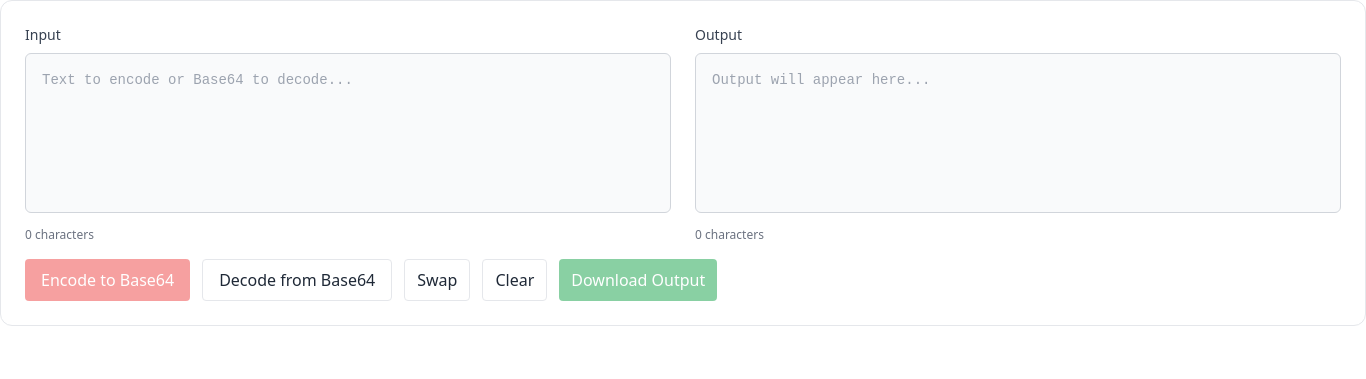
Test: Base64EncodeDecode › renders input and output areas and encodes text
This screenshot has width=1366, height=379.
Expected: the text box labelled "Output" is shown, x1=695 y1=53 x2=1341 y2=213
In the text box labelled "Input": (348, 133) x1=25 y1=53 x2=671 y2=213, type "hello"
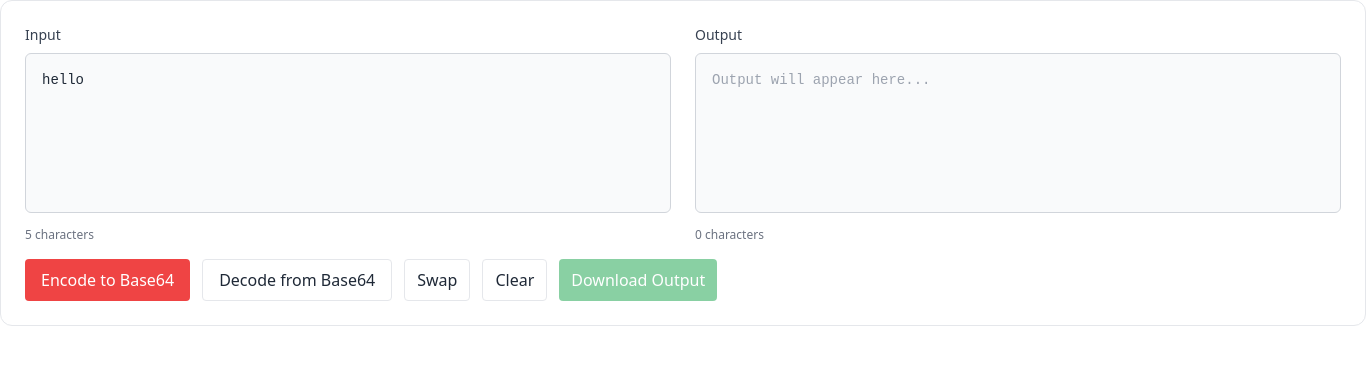
Click the button "Encode to Base64": (108, 280) x1=25 y1=259 x2=190 y2=301
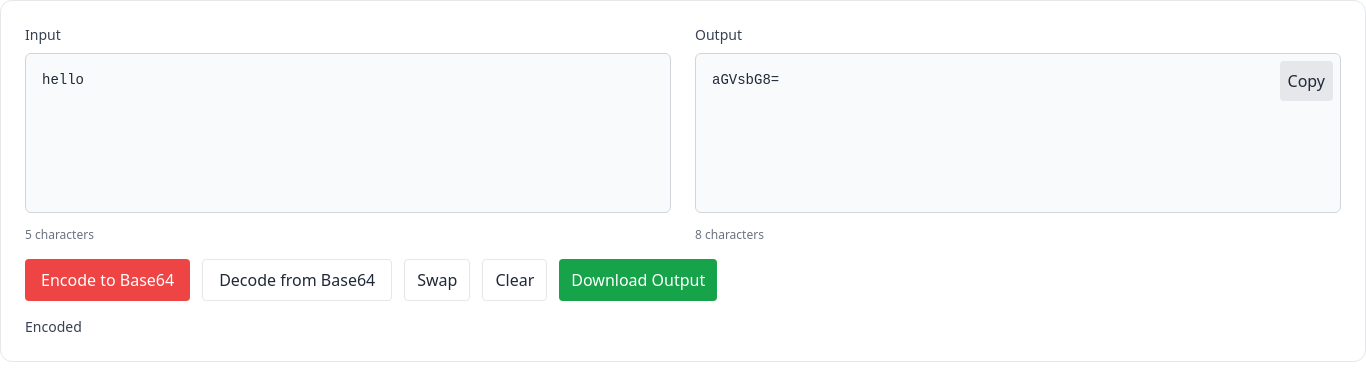
Expected: the text box labelled "Output" is not empty, x1=695 y1=53 x2=1341 y2=213
